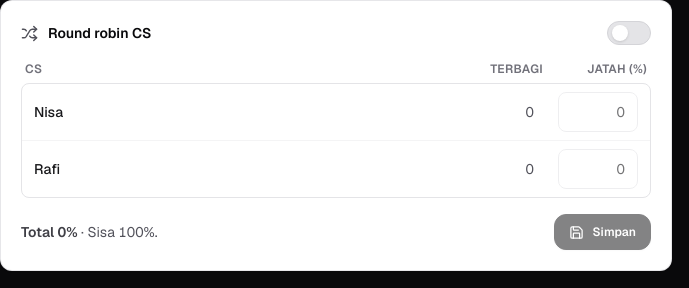
RoundRobinPanel › pemuatan ulang yang hanya menaikkan angka "Terbagi" tidak menghapus isian yang belum disimpan
Expected: the field labelled "Nisa" is shown, [558,92,638,132]
Click the switch named "Aktifkan round robin CS" at (629, 33), box [607,21,651,45]
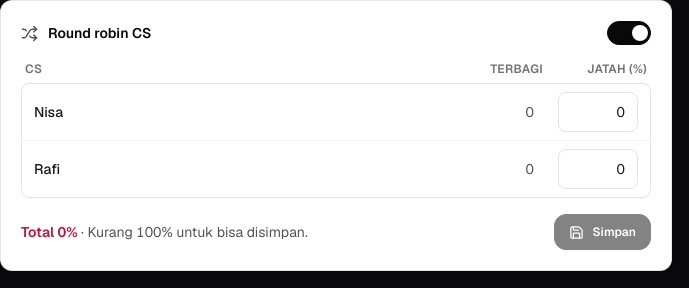
Replace the text in the field labelled "Nisa" with "40" at (598, 112), box [558,92,638,132]
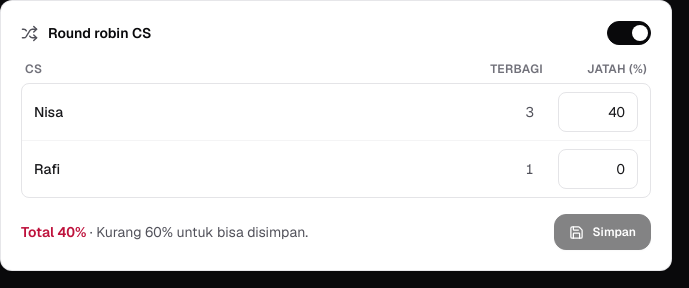
Expected: the list item labelled "Nisa" shows "3", [526,103,534,121]
